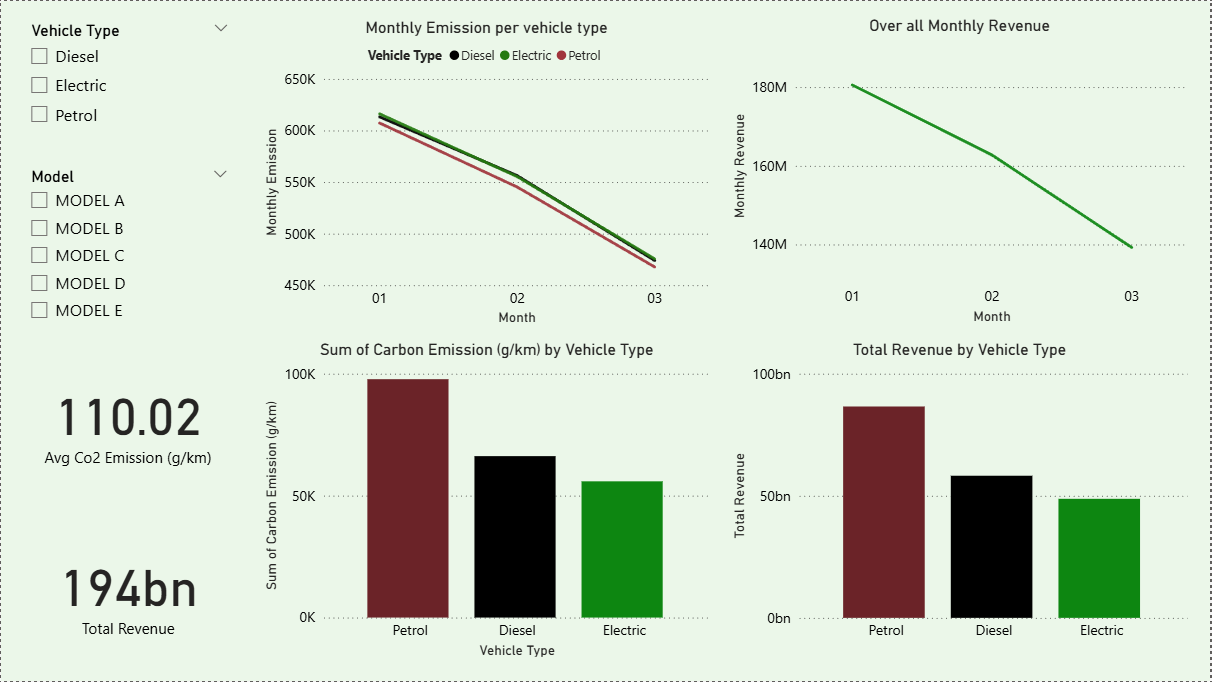

Layout of this report page (visuals, bound fields, positions):
{"tool":"powerbi","page":{"name":"Sustainability & Sales_Revenue","canvas":[1280,720],"ordinal":0},"visuals":[{"type":"slicer","fields":{"Values":["VehicleType.Vehicle Type"]},"box":[19.1,15.9,233.8,140],"z":0},{"type":"columnChart","fields":{"Category":["VehicleType.Vehicle Type"],"Y":["Sum(Products.Carbon Emission (g/km))"]},"box":[273.6,359.5,482,340.4],"z":1000},{"type":"card","fields":{"Values":["Avg(Products.Carbon Emission (g/km))"]},"box":[17.8,359.5,233.2,170],"z":2000},{"type":"lineChart","title":"Monthly Emission per vehicle type","fields":{"Y":["Products.Monthly Emission"],"Series":["Products.Vehicle Type"],"Category":["Order Details.Month"]},"box":[273.3,16.7,481.7,330],"z":3000},{"type":"slicer","fields":{"Values":["ModelTable.Model Name"]},"box":[19.7,169.6,233.2,189.3],"z":4000},{"type":"clusteredColumnChart","fields":{"Category":["VehicleType.Vehicle Type"],"Y":["Sales Details.Total Revenue"]},"box":[767.7,358.9,492.1,340.7],"z":5000},{"type":"lineChart","title":"Over all Monthly Revenue ","fields":{"Category":["Order Details.Month"],"Y":["Sales Details.Monthly Revenue"]},"box":[767.7,16.7,492.1,330.1],"z":6000},{"type":"card","fields":{"Values":["Sales Details.Total Revenue"]},"box":[17.5,545.6,233.8,157.5],"z":7000}]}

Visuals, with their boxes in screenshot pixels (x1, y1, x2, y2), scaled from the page's 1280x720 canvas onto the 1212x682 screenshot:
slicer - VehicleType.Vehicle Type: (18,15,239,148)
columnChart - VehicleType.Vehicle Type x Sum(Products.Carbon Emission (g/km)): (259,341,715,663)
card - Avg(Products.Carbon Emission (g/km)): (17,341,238,502)
"Monthly Emission per vehicle type" lineChart: (259,16,715,328)
slicer - ModelTable.Model Name: (19,161,239,340)
clusteredColumnChart - VehicleType.Vehicle Type x Sales Details.Total Revenue: (727,340,1193,663)
"Over all Monthly Revenue " lineChart: (727,16,1193,328)
card - Sales Details.Total Revenue: (17,517,238,666)
